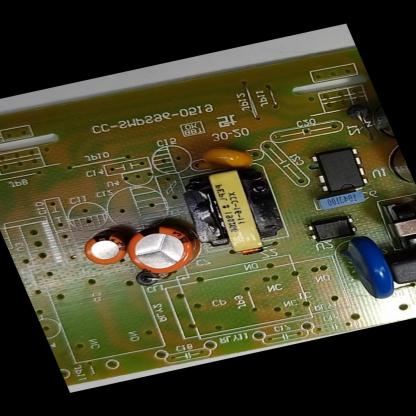Cap1: (115, 214, 211, 286)
Cap2: (70, 221, 142, 274)
Cap3: (377, 138, 416, 198)
Cap4: (354, 92, 396, 146)
MOSFET: (300, 140, 378, 200)
Mov: (328, 229, 406, 307)
Transformer: (170, 158, 296, 268), (373, 193, 416, 260)
